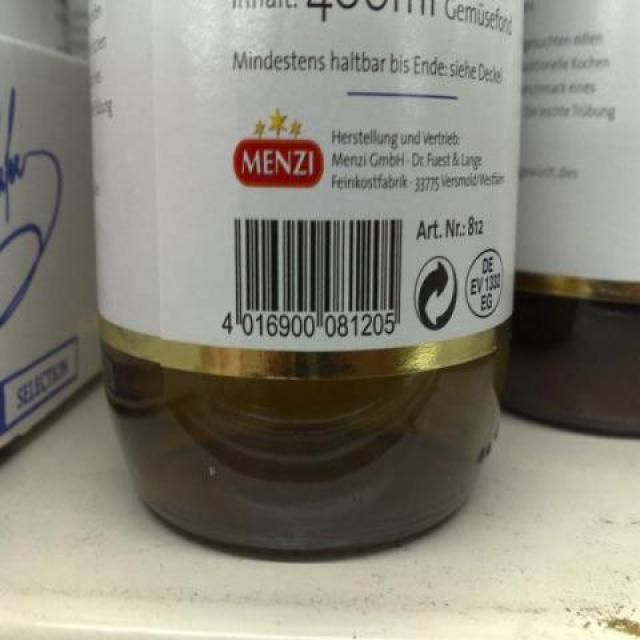Barcode: (210, 200, 411, 347)
